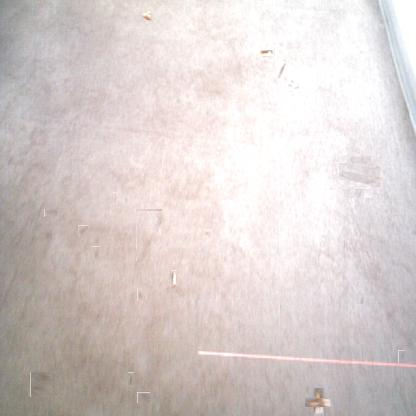dirty: (309, 393, 329, 411), (170, 270, 176, 287), (260, 50, 274, 56), (142, 13, 152, 21)
mark: (136, 210, 162, 262), (342, 159, 378, 193), (29, 372, 54, 397), (276, 60, 287, 78), (138, 392, 149, 404), (287, 82, 298, 93), (78, 225, 88, 236), (92, 246, 100, 259), (44, 210, 57, 218), (398, 350, 405, 363), (137, 289, 144, 301), (44, 230, 52, 240), (128, 372, 134, 385), (358, 294, 364, 304), (205, 230, 212, 237), (112, 192, 116, 203), (123, 196, 128, 204)
